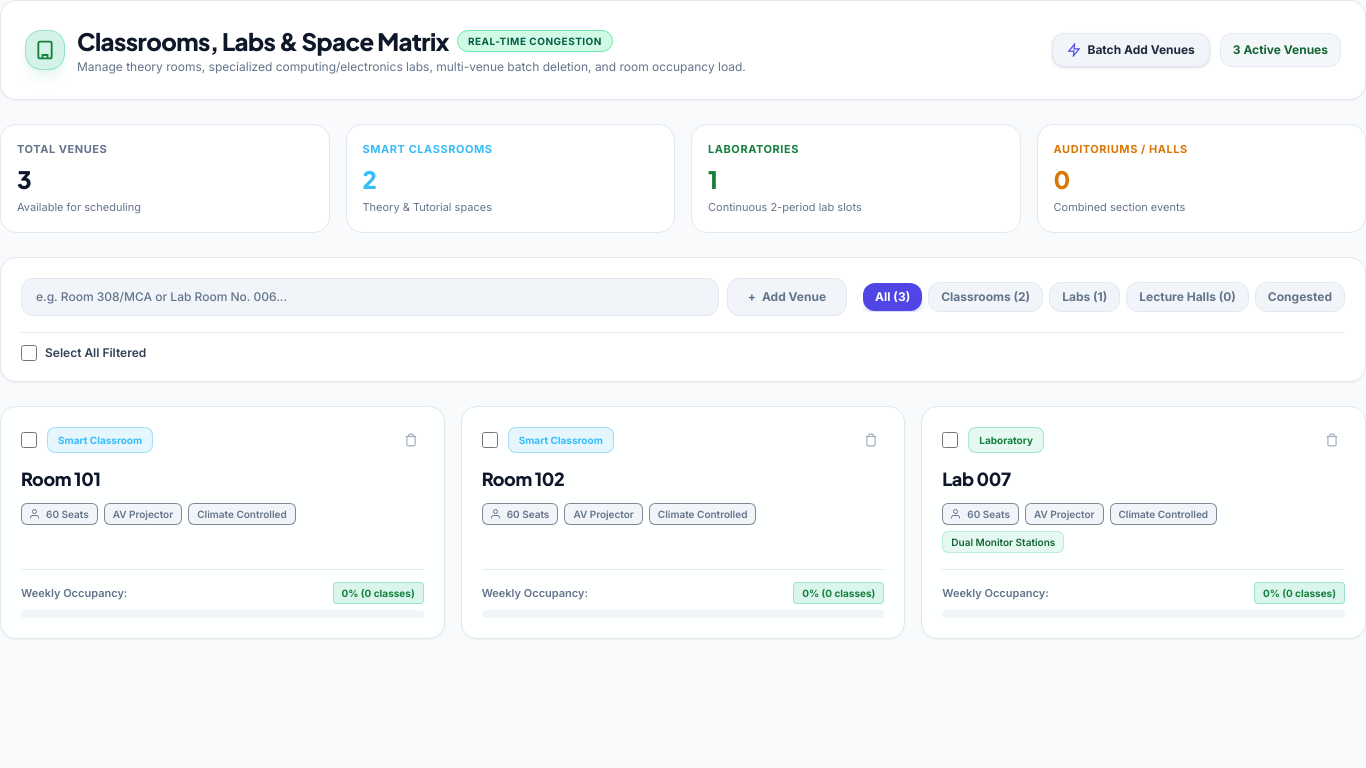
RoomsSection Component › selects and deselects all rooms via Select All toggle
Click the checkbox labelled "Select All Filtered": (29, 353) [21, 345, 37, 361]
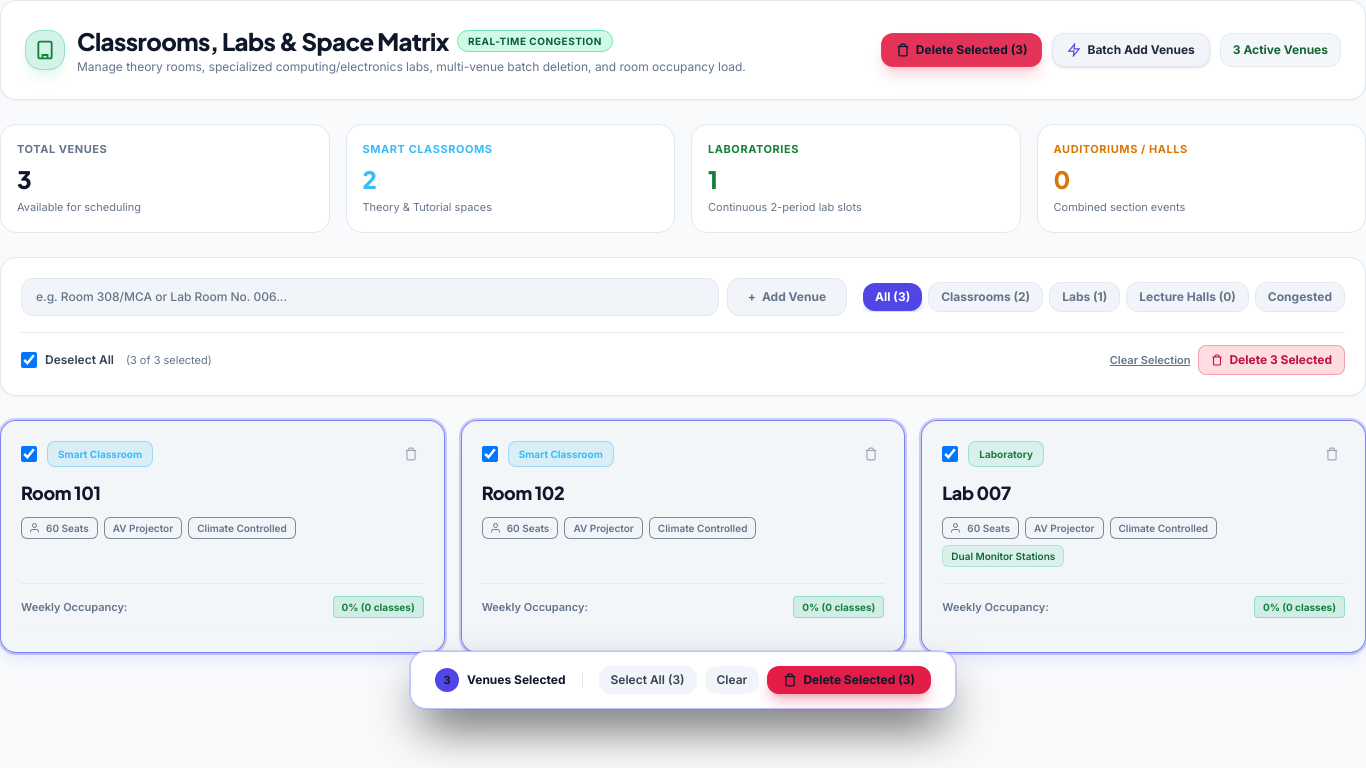
Result: the text "Venues Selected" is shown at [467, 672, 566, 688]
Result: the button "Delete Selected (3)" in the row of "Active Venues" is shown at [881, 33, 1042, 67]
# Clicking clear selection
Click the button "Clear Selection": (1150, 360) [1110, 352, 1190, 368]
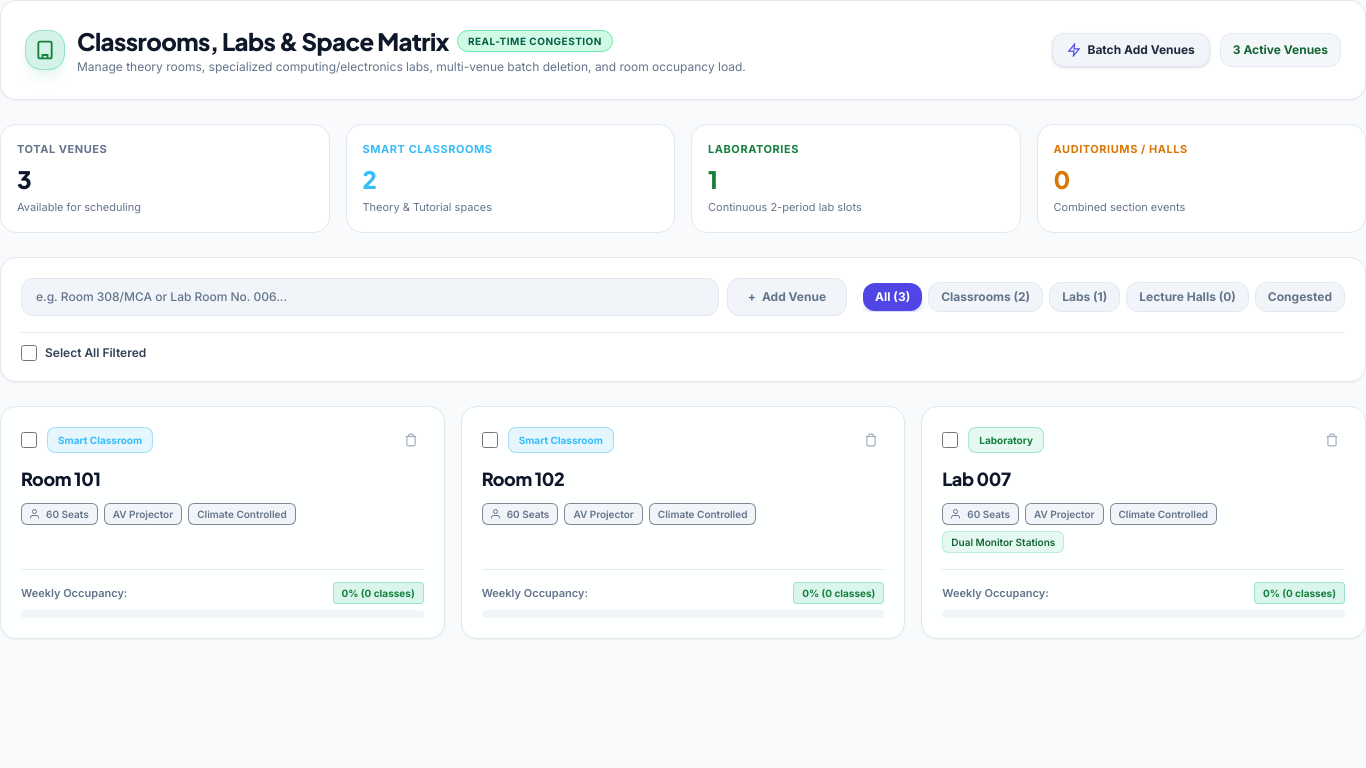
Result: the button "Delete Selected (3)" is gone
